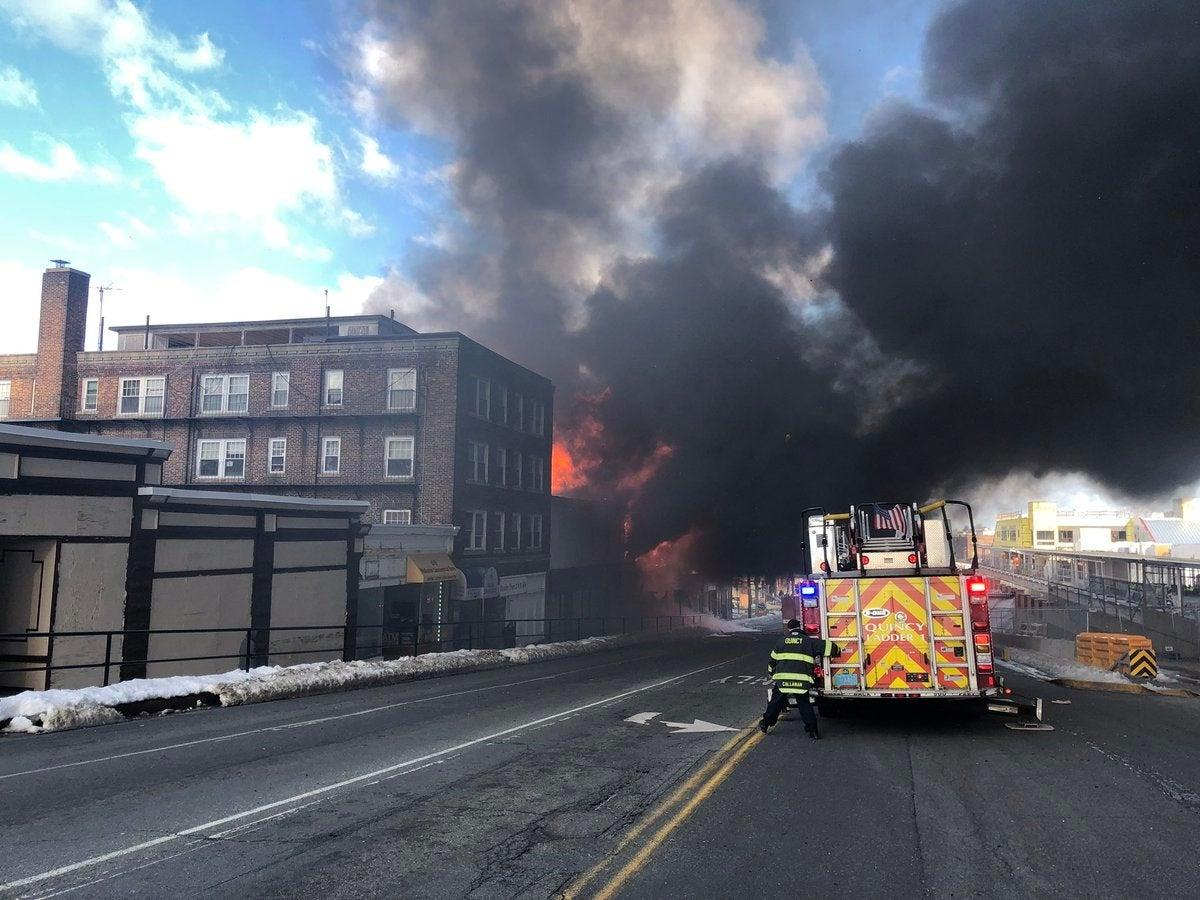Fire: (554, 401, 709, 589)
